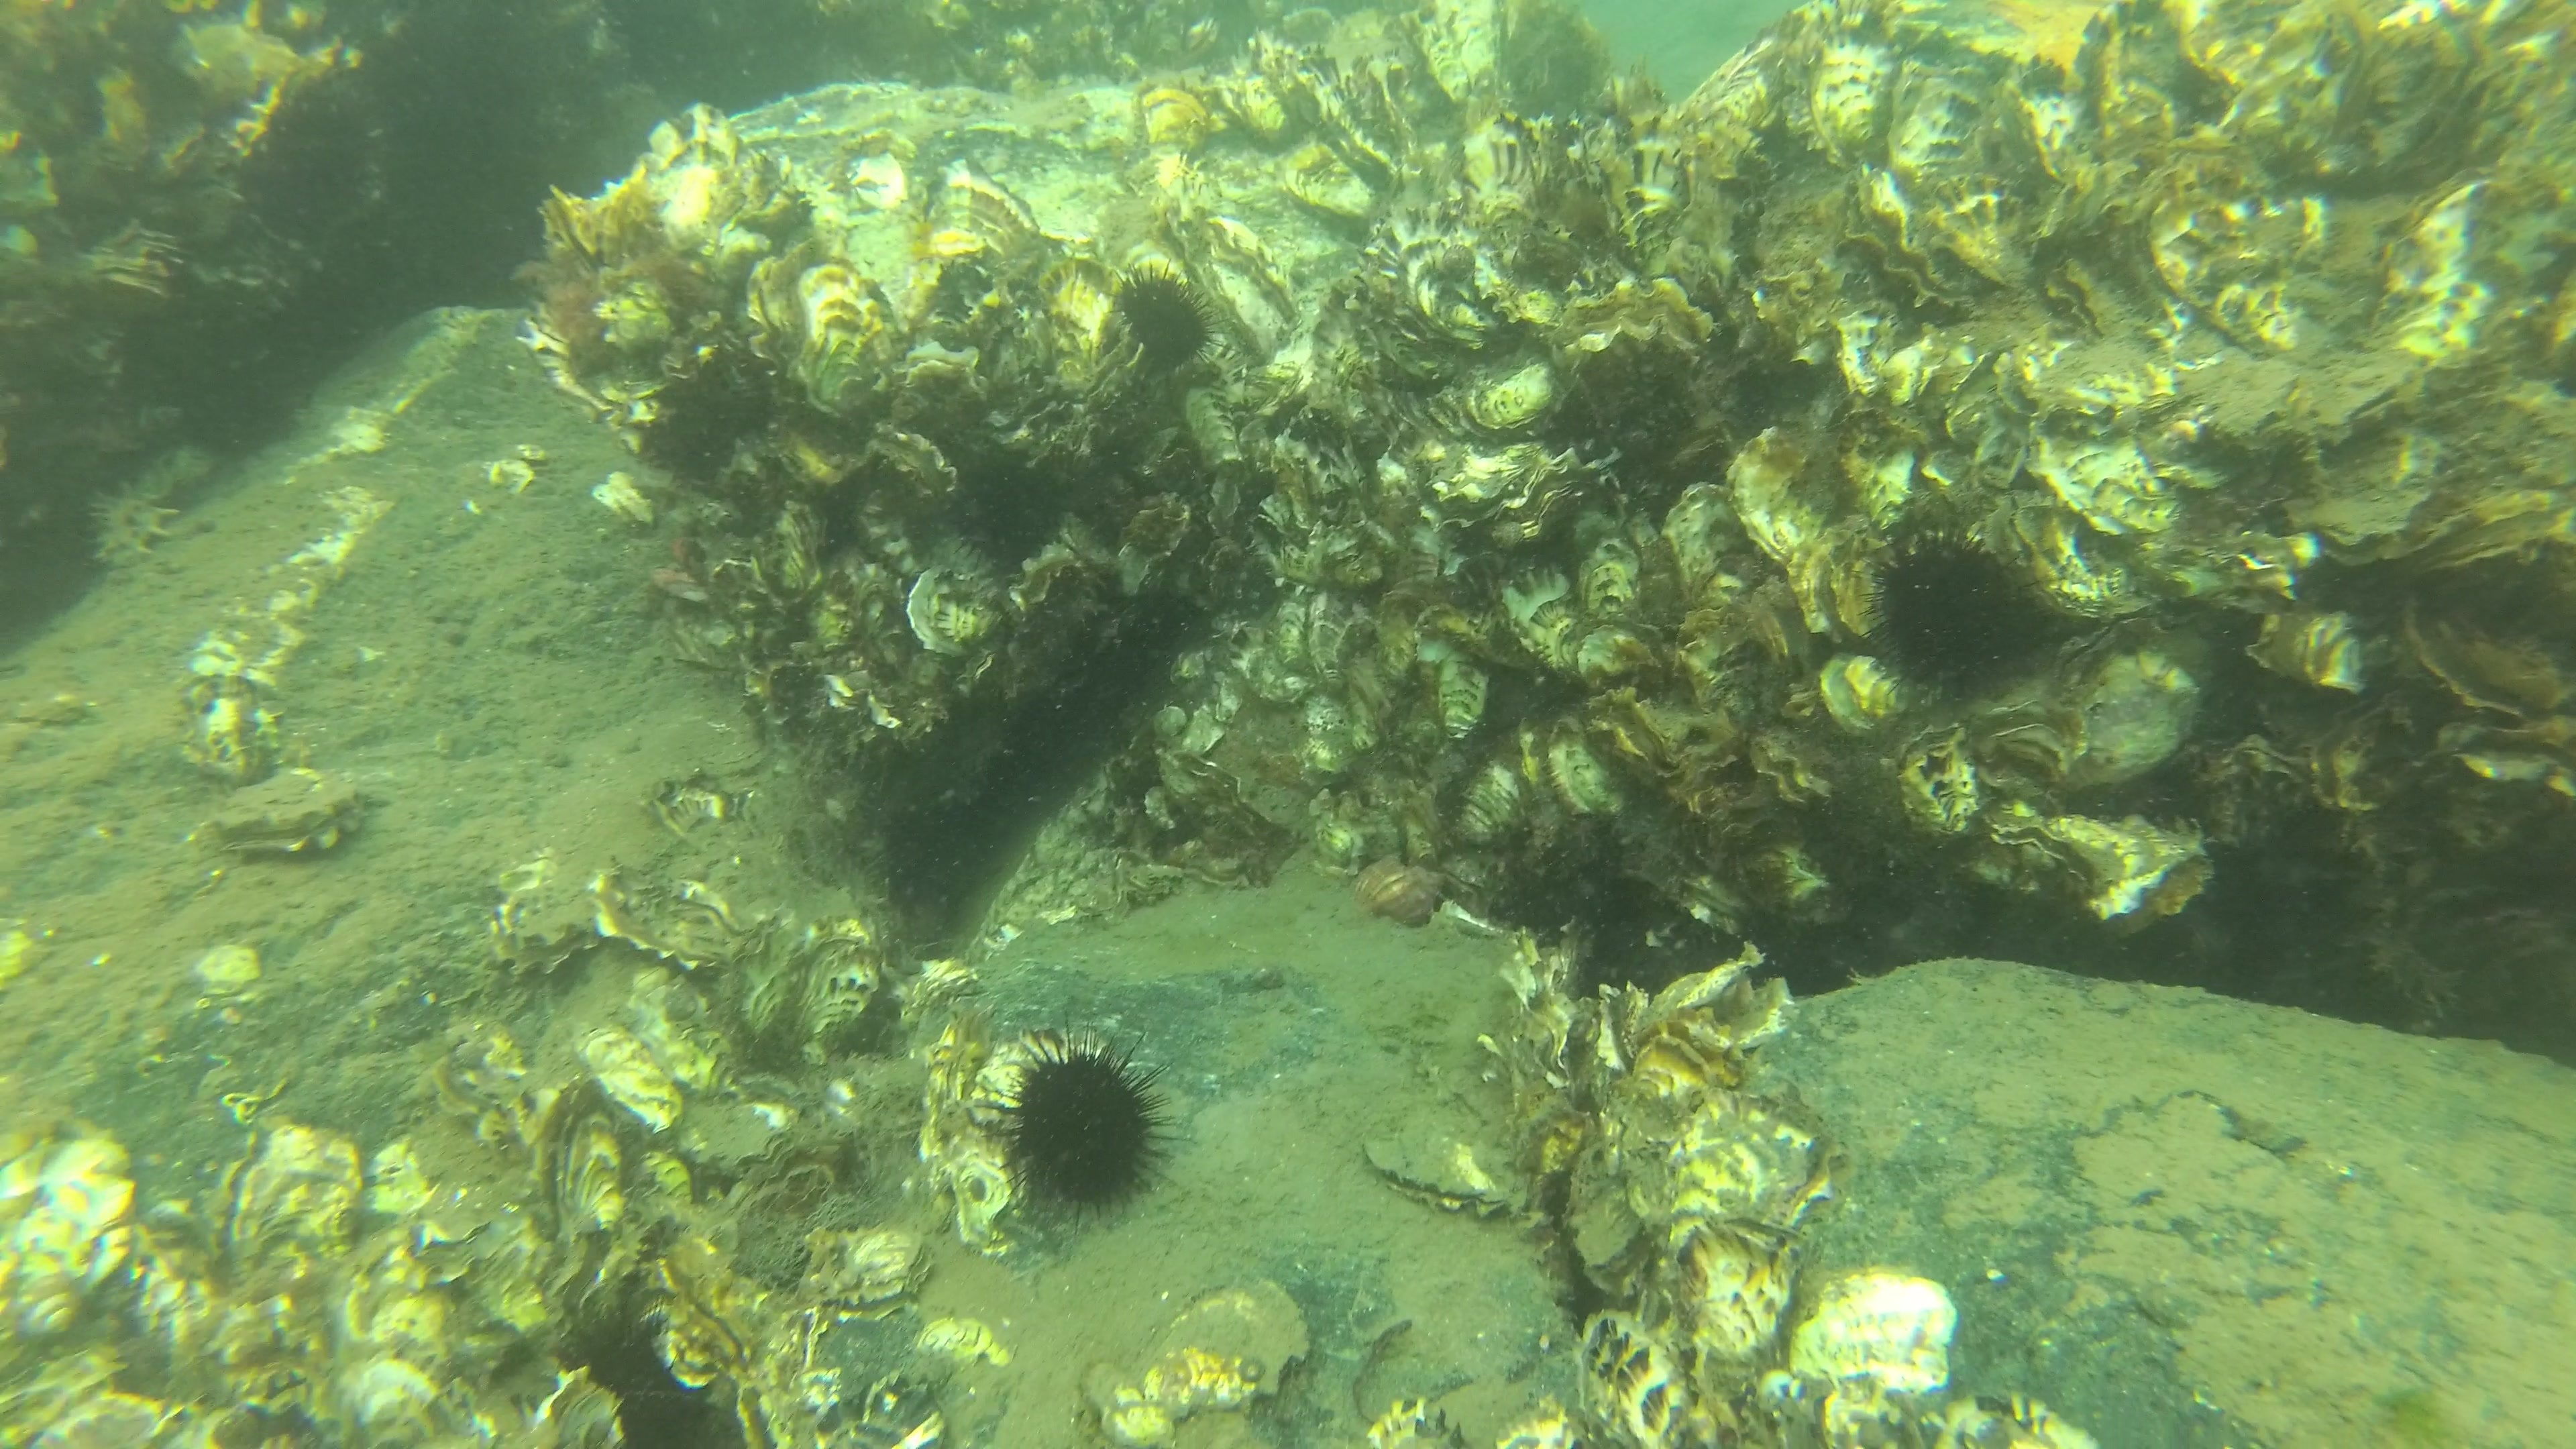echinus: (991, 1033, 1178, 1231), (1870, 522, 2059, 706), (1108, 264, 1224, 375)
